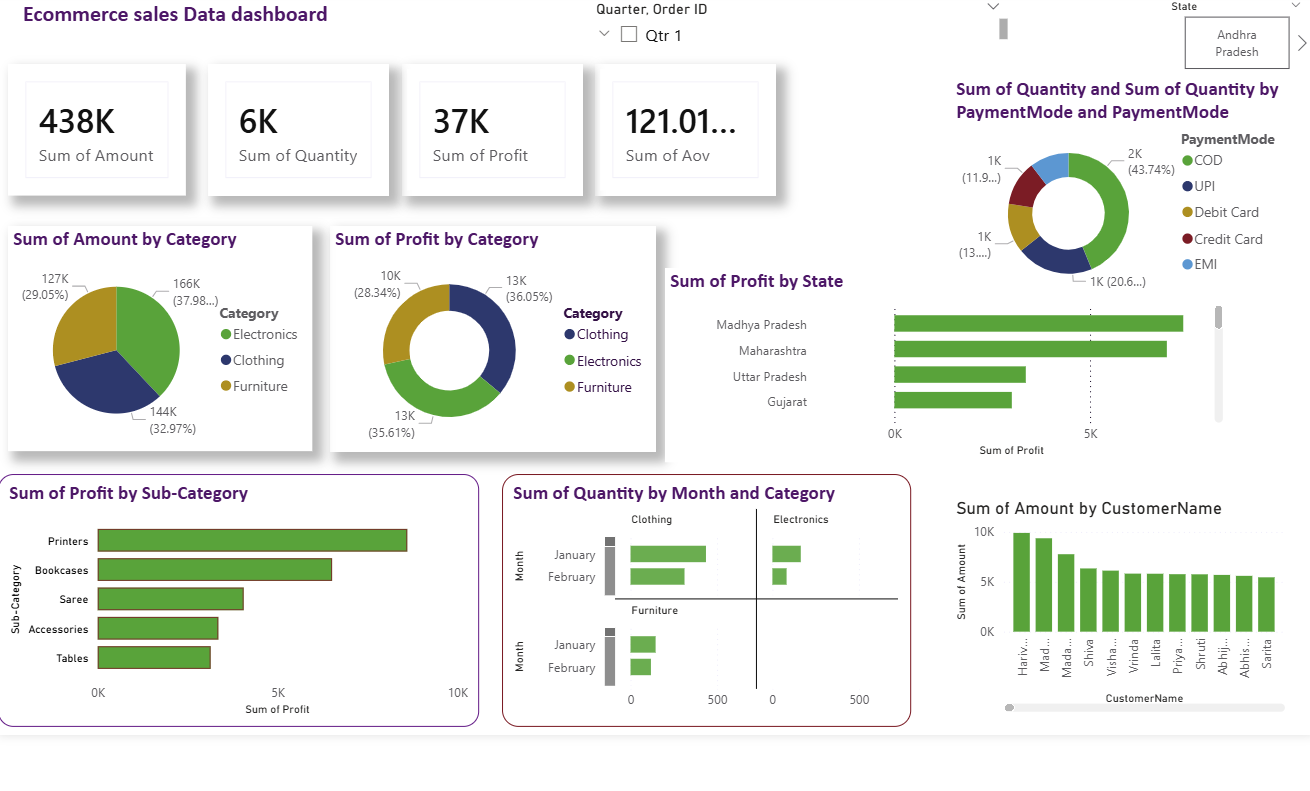

Layout of this report page (visuals, bound fields, positions):
{"tool":"powerbi","page":{"name":"Page 1","canvas":[1280,720],"ordinal":0},"visuals":[{"type":"textbox","box":[9.7,0,428.9,59.3],"z":0},{"type":"pieChart","fields":{"Y":["Sum(Details csv.Amount)"],"Category":["Details csv.Category"]},"box":[9.7,224.7,295.7,218.8],"z":1000},{"type":"barChart","fields":{"Category":["Orders csv.Order Date.Variation.Date Hierarchy.Month"],"Y":["Sum(Details csv.Quantity)"],"Rows":["Details csv.Category"]},"box":[490.2,465.9,397.8,246.1],"z":2000},{"type":"donutChart","fields":{"Y":["Sum(Details csv.Profit)"],"Category":["Details csv.Category"]},"box":[322.9,224.7,317.1,219.8],"z":3000},{"type":"clusteredBarChart","fields":{"Category":["Orders csv.State"],"Y":["Sum(Details csv.Profit)"]},"box":[648.8,265.5,547.6,188.7],"z":4000},{"type":"donutChart","fields":{"Series":["Details csv.PaymentMode"],"Category":["Details csv.PaymentMode"],"Y":["Sum(Details csv.Quantity)"]},"box":[926.9,78.8,336.5,219.8],"z":5000},{"type":"clusteredBarChart","fields":{"Category":["Details csv.Sub-Category"],"Y":["Sum(Details csv.Profit)"]},"box":[0,465.9,467.8,246.1],"z":6000},{"type":"cardVisual","fields":{"Data":["Sum(Details csv.Amount)"]},"box":[9.7,67.1,173.1,128.4],"z":7000},{"type":"cardVisual","fields":{"Data":["Sum(Details csv.Quantity)"]},"box":[204.3,67.1,176,128.4],"z":8000},{"type":"cardVisual","fields":{"Data":["Sum(Details csv.Profit)"]},"box":[392.9,67.1,176,128.4],"z":9000},{"type":"cardVisual","fields":{"Data":["Sum(Details csv.Aov)"]},"box":[580.7,67.1,176,128.4],"z":10000},{"type":"columnChart","fields":{"Category":["Orders csv.CustomerName"],"Y":["Sum(Details csv.Amount)"]},"box":[926.9,489.2,329.7,213],"z":11000},{"type":"slicer","fields":{"Values":["Orders csv.State"]},"box":[1128.3,0,151.7,78.8],"z":12000},{"type":"slicer","fields":{"Values":["Orders csv.Order Date.Variation.Date Hierarchy.Quarter","Orders csv.Order ID"]},"box":[569,0,418.2,59.3],"z":13000}]}

Visuals, with their boxes on the page's 1280x720 design canvas (x1, y1, x2, y2). These are canvas units, not pixel positions in the 1310x791 screenshot, which may show the page scaled, cropped or inside an application window:
textbox: l=10, t=0, r=439, b=59
pieChart - Sum(Details csv.Amount) x Details csv.Category: l=10, t=225, r=305, b=444
barChart - Orders csv.Order Date.Variation.Date Hierarchy.Month x Sum(Details csv.Quantity): l=490, t=466, r=888, b=712
donutChart - Sum(Details csv.Profit) x Details csv.Category: l=323, t=225, r=640, b=444
clusteredBarChart - Orders csv.State x Sum(Details csv.Profit): l=649, t=266, r=1196, b=454
donutChart - Details csv.PaymentMode x Details csv.PaymentMode: l=927, t=79, r=1263, b=299
clusteredBarChart - Details csv.Sub-Category x Sum(Details csv.Profit): l=0, t=466, r=468, b=712
cardVisual - Sum(Details csv.Amount): l=10, t=67, r=183, b=196
cardVisual - Sum(Details csv.Quantity): l=204, t=67, r=380, b=196
cardVisual - Sum(Details csv.Profit): l=393, t=67, r=569, b=196
cardVisual - Sum(Details csv.Aov): l=581, t=67, r=757, b=196
columnChart - Orders csv.CustomerName x Sum(Details csv.Amount): l=927, t=489, r=1257, b=702
slicer - Orders csv.State: l=1128, t=0, r=1280, b=79
slicer - Orders csv.Order Date.Variation.Date Hierarchy.Quarter x Orders csv.Order ID: l=569, t=0, r=987, b=59
